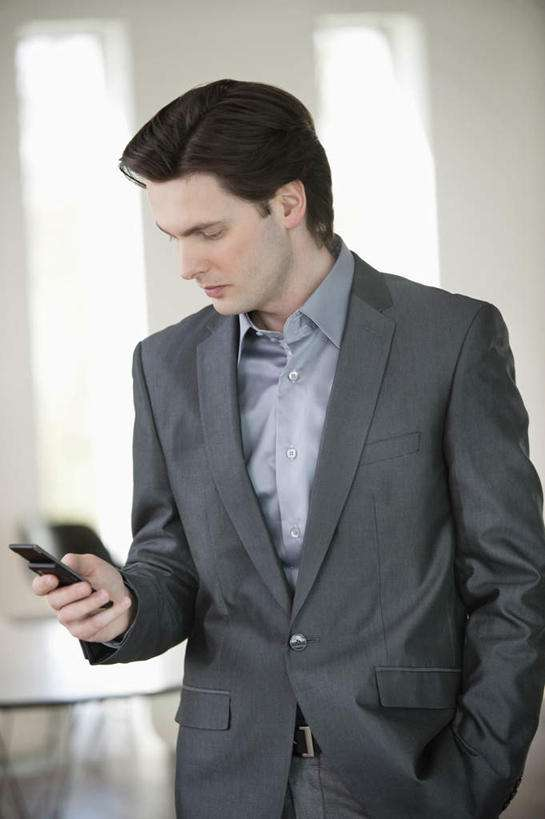reading: (7, 533, 133, 648)
